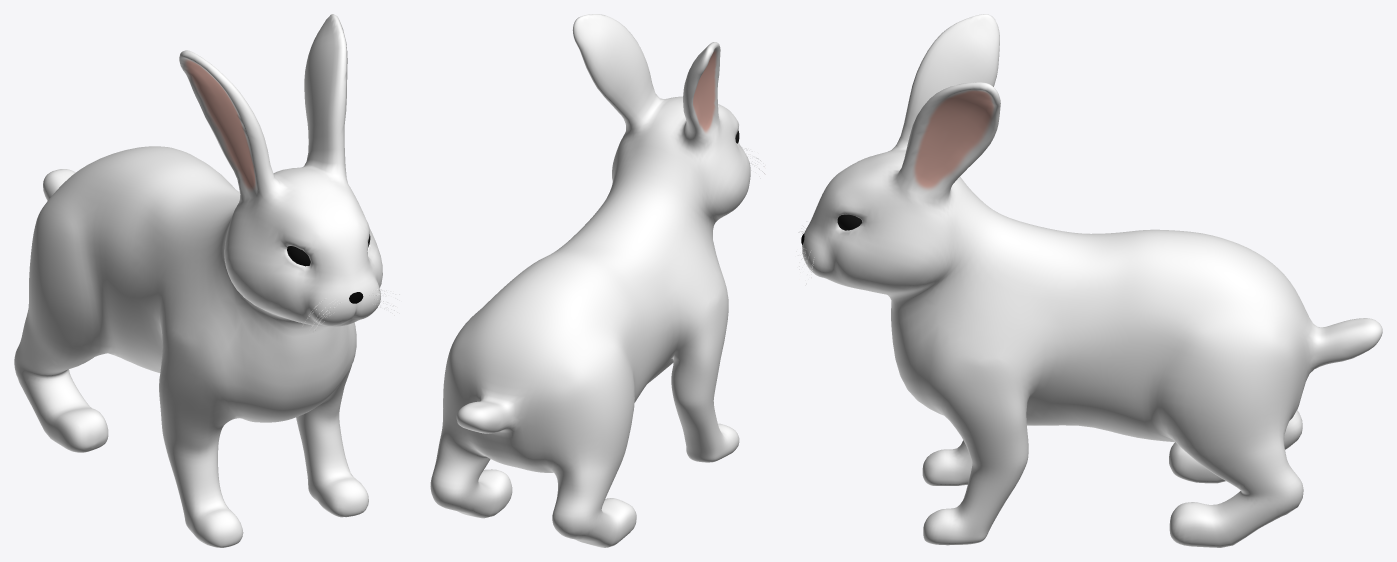
Rendered from White Rabbit.fbx.
3 views of the same model, side by side, from view 1: azimuth 30°, elevation 25°; view 2: azimuth 150°, elevation 25°; view 3: azimuth 270°, elevation 25° (orthographic). The views are drawn at different scales.
Visible parts, largest first — view 1: Object_3.002; view 2: Object_3.002; view 3: Object_3.002.
Boxes of the visible parts, x1,y1,x2,y2 form: Object_3.002: (14, 14, 382, 547); Object_3.002: (430, 14, 750, 547); Object_3.002: (802, 14, 1382, 547).
Bounding box in the file's own units: 3.25 × 7.69 × 8.86.
3 materials, 1 textured.
